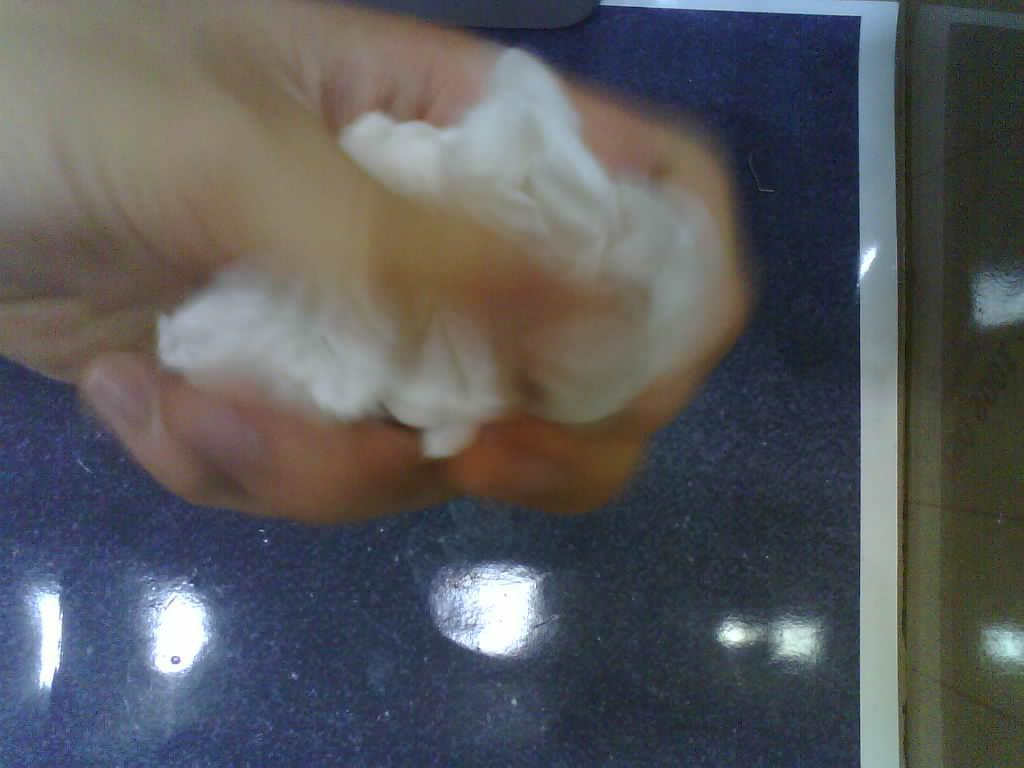paper: (158, 50, 738, 458)
